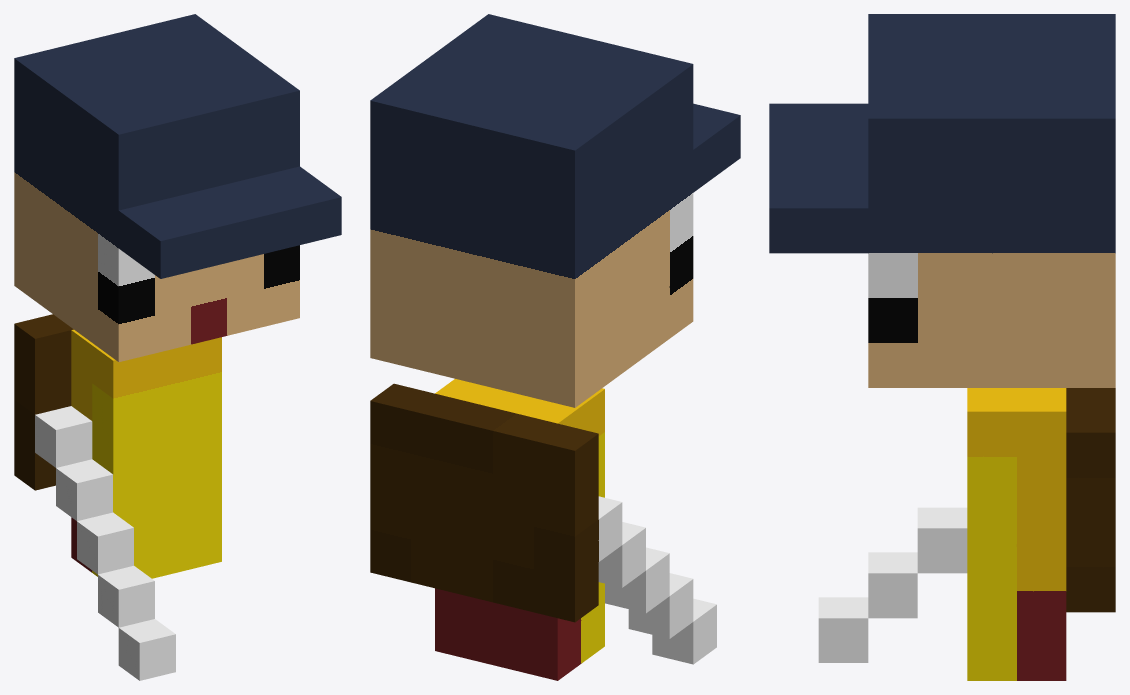
The model's file is Litterpicker.dae.
3 views of the same model, side by side, from view 1: azimuth 30°, elevation 25°; view 2: azimuth 150°, elevation 25°; view 3: azimuth 270°, elevation 25° (orthographic). The views are drawn at different scales.
Parts seen in each view (by area): view 1: Litterpicker; view 2: Litterpicker; view 3: Litterpicker.
Boxes of the visible parts, box(x1,y1,x2,y2) form: Litterpicker: box(14, 14, 341, 680); Litterpicker: box(370, 14, 740, 680); Litterpicker: box(769, 14, 1115, 680).
Bounding box in the file's own units: 5 × 14 × 7.
1 material, 1 textured.
